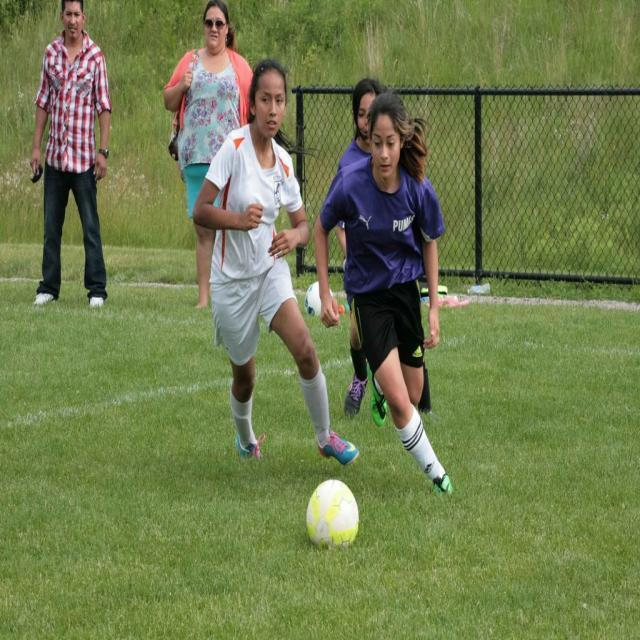ball: (303, 476, 359, 545), (301, 279, 338, 318)
